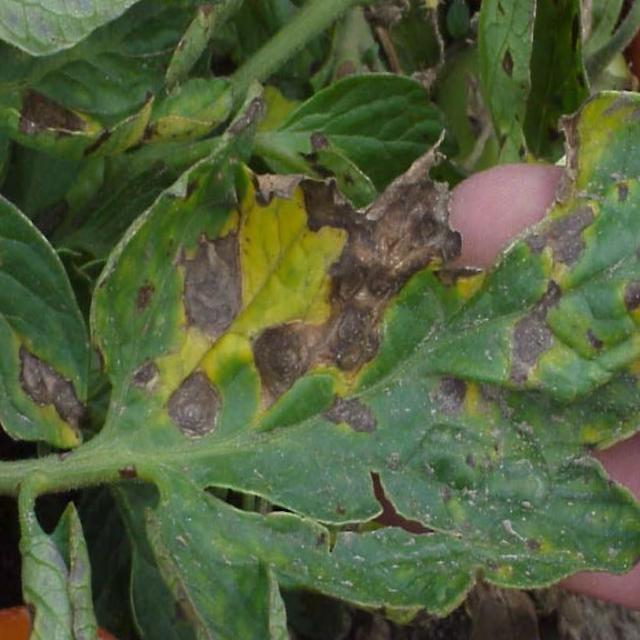Early_blight: (246, 134, 482, 414), (482, 278, 566, 417), (165, 209, 244, 348), (15, 339, 88, 446), (547, 93, 603, 207), (522, 205, 597, 273), (162, 366, 226, 438), (17, 91, 89, 147), (319, 393, 379, 437), (425, 371, 474, 423), (120, 352, 158, 399), (623, 275, 640, 314), (500, 45, 515, 76)
